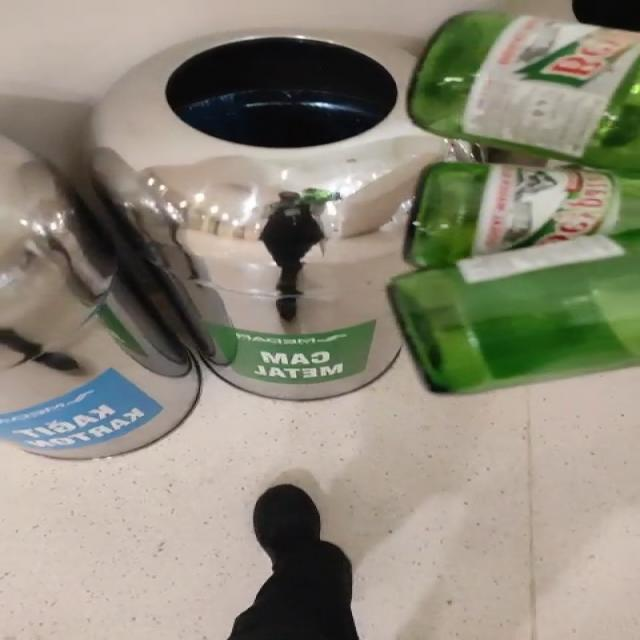bin: (92, 29, 448, 400)
glass: (389, 11, 640, 392)
